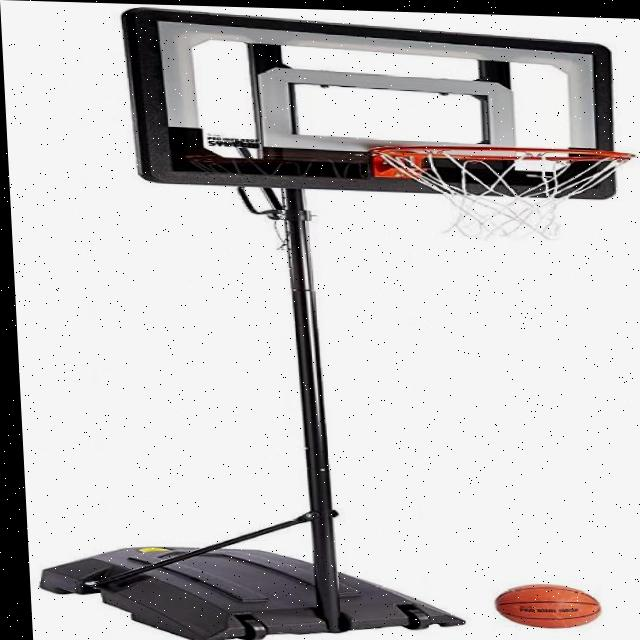Basketball: (495, 582, 604, 630)
hoop: (368, 143, 640, 244)
